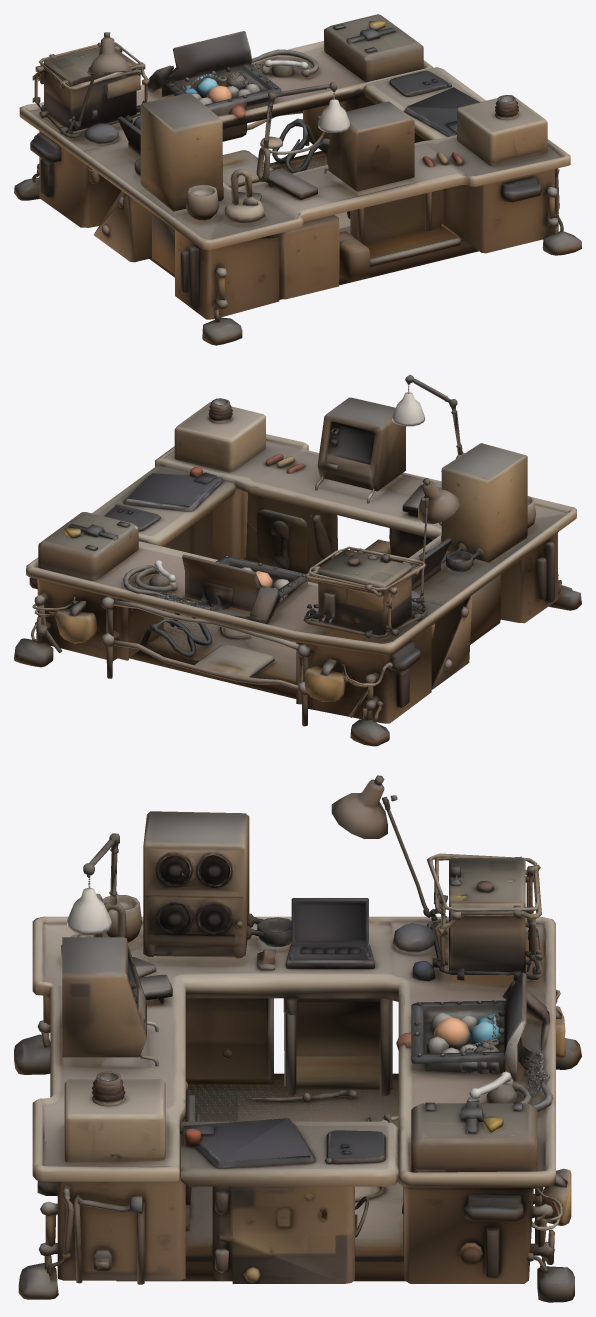
File: ch8_syndicate_field_lab.glb
3 views of the same model, one above another, from view 1: azimuth 30°, elevation 25°; view 2: azimuth 150°, elevation 25°; view 3: azimuth 270°, elevation 25° (orthographic). The views are drawn at different scales.
Parts seen in each view (by area): view 1: tripo_node_7368148b-558b-49bb-bc4a-a773b8729387; view 2: tripo_node_7368148b-558b-49bb-bc4a-a773b8729387; view 3: tripo_node_7368148b-558b-49bb-bc4a-a773b8729387.
Part boxes in pixels (x1,y1,x2,y2): tripo_node_7368148b-558b-49bb-bc4a-a773b8729387: [14, 14, 581, 345]; tripo_node_7368148b-558b-49bb-bc4a-a773b8729387: [14, 374, 581, 746]; tripo_node_7368148b-558b-49bb-bc4a-a773b8729387: [14, 775, 581, 1302].
Size of the model in its own units: 0.998 by 0.5527 by 0.9434.
1 material, 1 textured.
